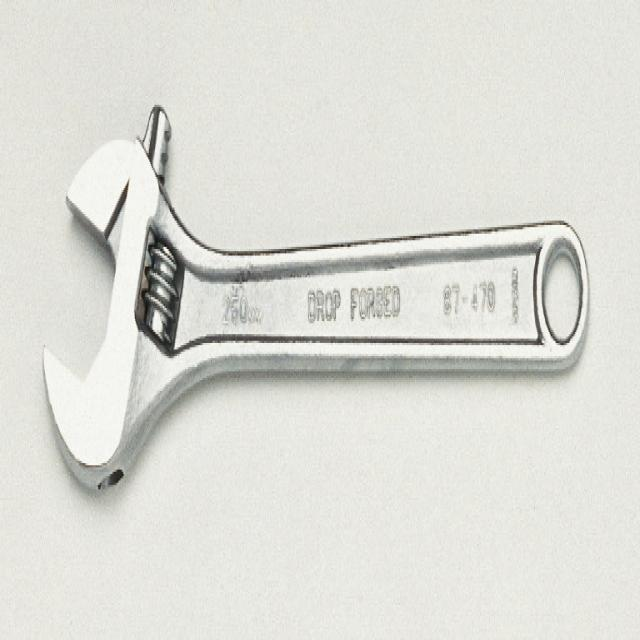wrench: (18, 64, 600, 617)
